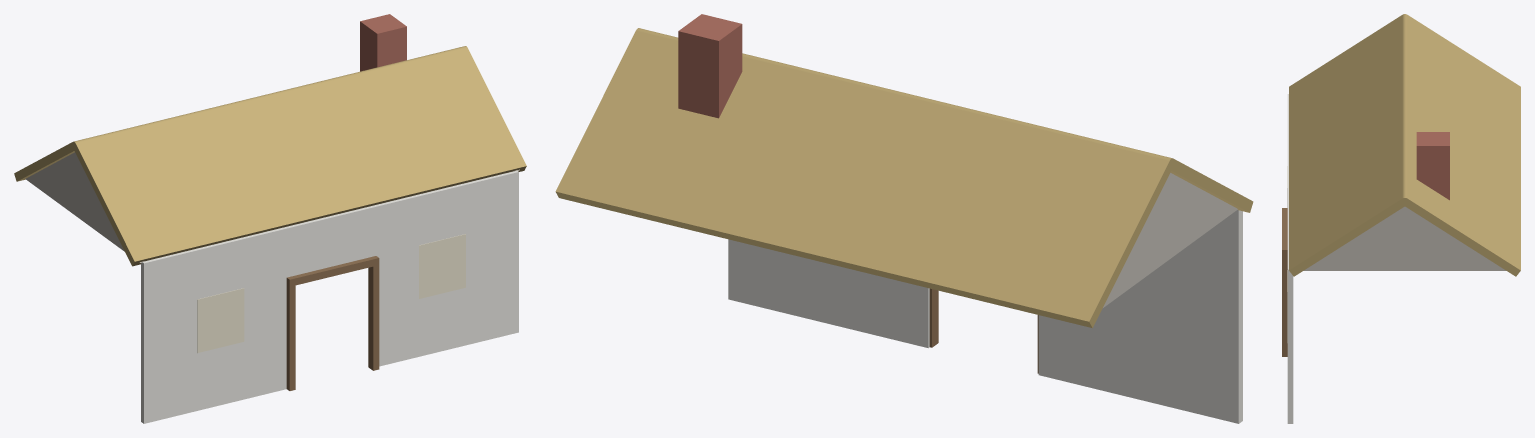
Rendered from HeroHouseFacade.glb.
The picture shows the model from 3 angles, left to right: view 1: azimuth 30°, elevation 25°; view 2: azimuth 150°, elevation 25°; view 3: azimuth 270°, elevation 25°; orthographic projection. The views are drawn at different scales.
Visible parts, largest first — view 1: HeroRoof1, HeroFacadeL, HeroFacadeR, HeroLintel, Gable.Hero.L, HeroWindow1, HeroWindow2, HeroChimney, HeroDoorFrameR, HeroRidge, HeroDoorFrameL, HeroDoorTop (+1 smaller); view 2: HeroRoof2, HeroFacadeL, HeroFacadeR, Gable.Hero.L, HeroChimney, HeroRidge, HeroRoof1; view 3: HeroRoof1, HeroRoof2, Gable.Hero.R, HeroChimney, HeroFacadeR, HeroRidge, HeroDoorFrameR, HeroDoorTop.
Part boxes in pixels (x1,y1,x2,y2): HeroRoof1: (74, 48, 526, 266); HeroFacadeL: (141, 226, 290, 423); HeroFacadeR: (370, 171, 518, 366); HeroLintel: (289, 206, 371, 276); Gable.Hero.L: (25, 152, 144, 262); HeroWindow1: (197, 288, 244, 352); HeroWindow2: (419, 234, 465, 298); HeroChimney: (360, 14, 406, 71); HeroDoorFrameR: (368, 262, 379, 370); HeroRidge: (72, 46, 467, 149); HeroDoorFrameL: (286, 282, 295, 390); HeroDoorTop: (286, 256, 379, 286); HeroRoof2: (555, 30, 1171, 327); HeroFacadeL: (1038, 210, 1242, 423); HeroFacadeR: (728, 239, 929, 348); Gable.Hero.L: (1103, 173, 1237, 307); HeroChimney: (678, 14, 742, 118); HeroRidge: (636, 28, 1172, 169); HeroRoof1: (1169, 158, 1253, 212); HeroRoof1: (1289, 15, 1406, 276); HeroRoof2: (1403, 15, 1520, 276); Gable.Hero.R: (1303, 206, 1506, 270); HeroChimney: (1416, 132, 1449, 200); HeroFacadeR: (1287, 200, 1293, 423); HeroRidge: (1400, 14, 1409, 205); HeroDoorFrameR: (1282, 254, 1287, 356); HeroDoorTop: (1282, 208, 1287, 254).
Size of the model in its own units: 9.2 by 6 by 5.05.
